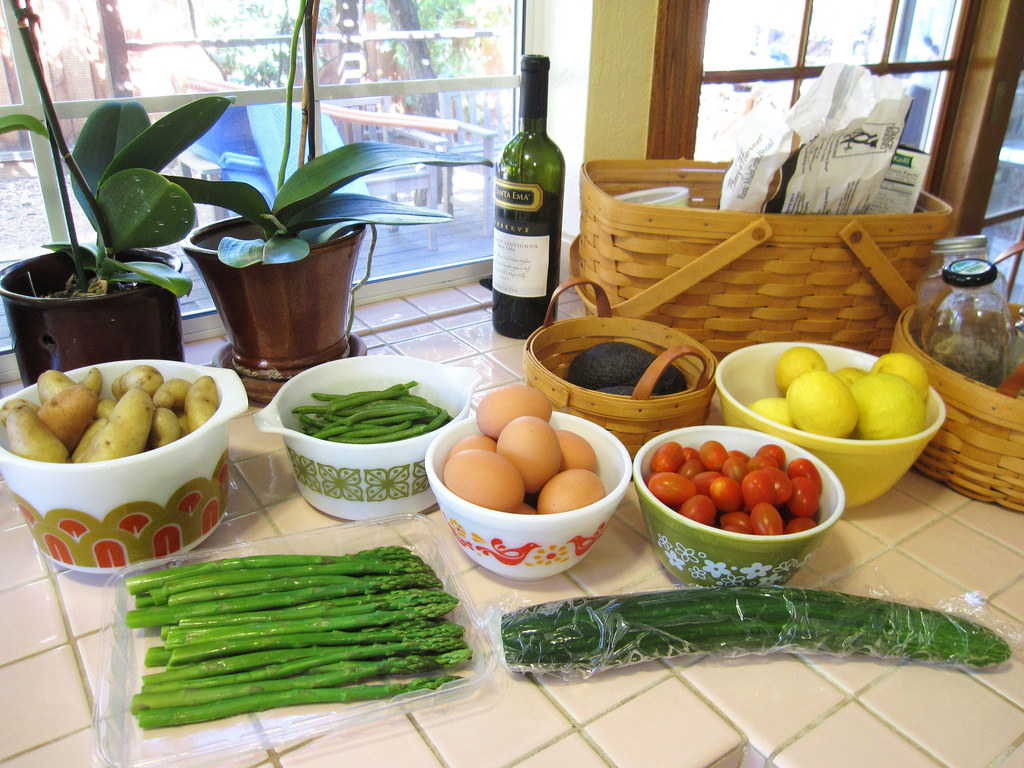boiled potatoes: (773, 343, 927, 432)
